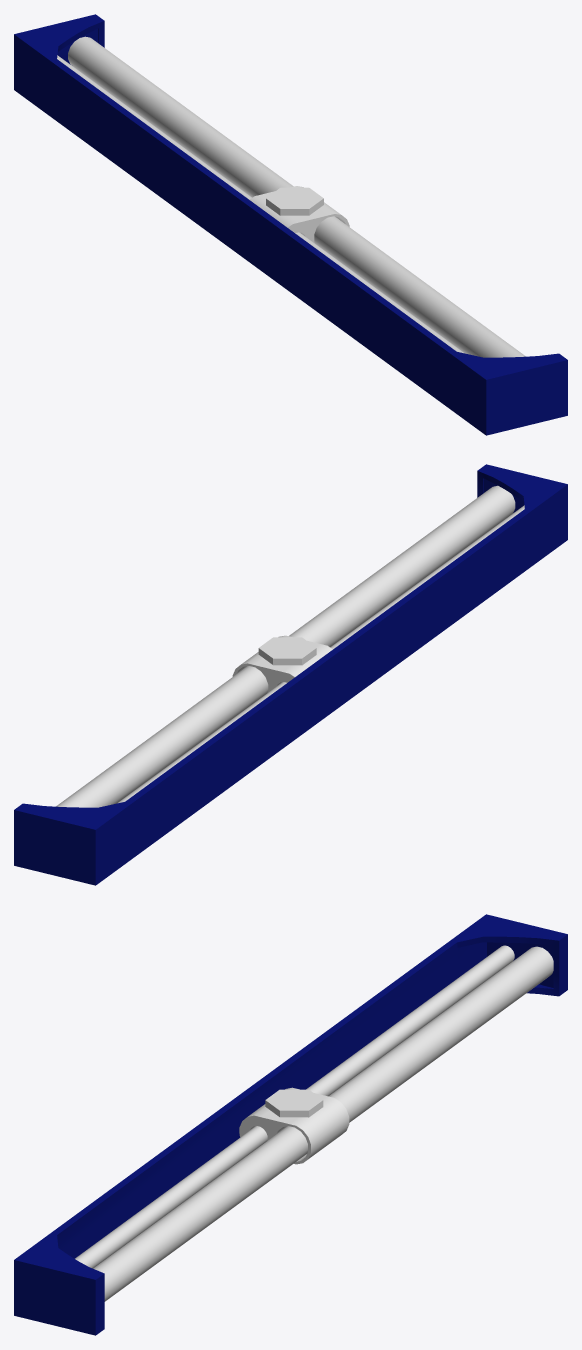
File: cable.fbx
The picture shows the model from 3 angles, top to bottom: view 1: azimuth 30°, elevation 25°; view 2: azimuth 150°, elevation 25°; view 3: azimuth 330°, elevation 25°; orthographic projection.
Parts seen in each view (by area): view 1: Cylinder, Cylinder.003; view 2: Cylinder, Cylinder.003; view 3: Cylinder, Cylinder.003.
Boxes of the visible parts, x1=… form: Cylinder: x1=14, y1=14, x2=567, y2=435; Cylinder.003: x1=249, y1=186, x2=349, y2=243; Cylinder: x1=14, y1=464, x2=567, y2=885; Cylinder.003: x1=232, y1=635, x2=332, y2=692; Cylinder: x1=14, y1=914, x2=567, y2=1335; Cylinder.003: x1=239, y1=1087, x2=349, y2=1164.
Bounding box in the file's own units: 62.77 × 40.92 × 628.
